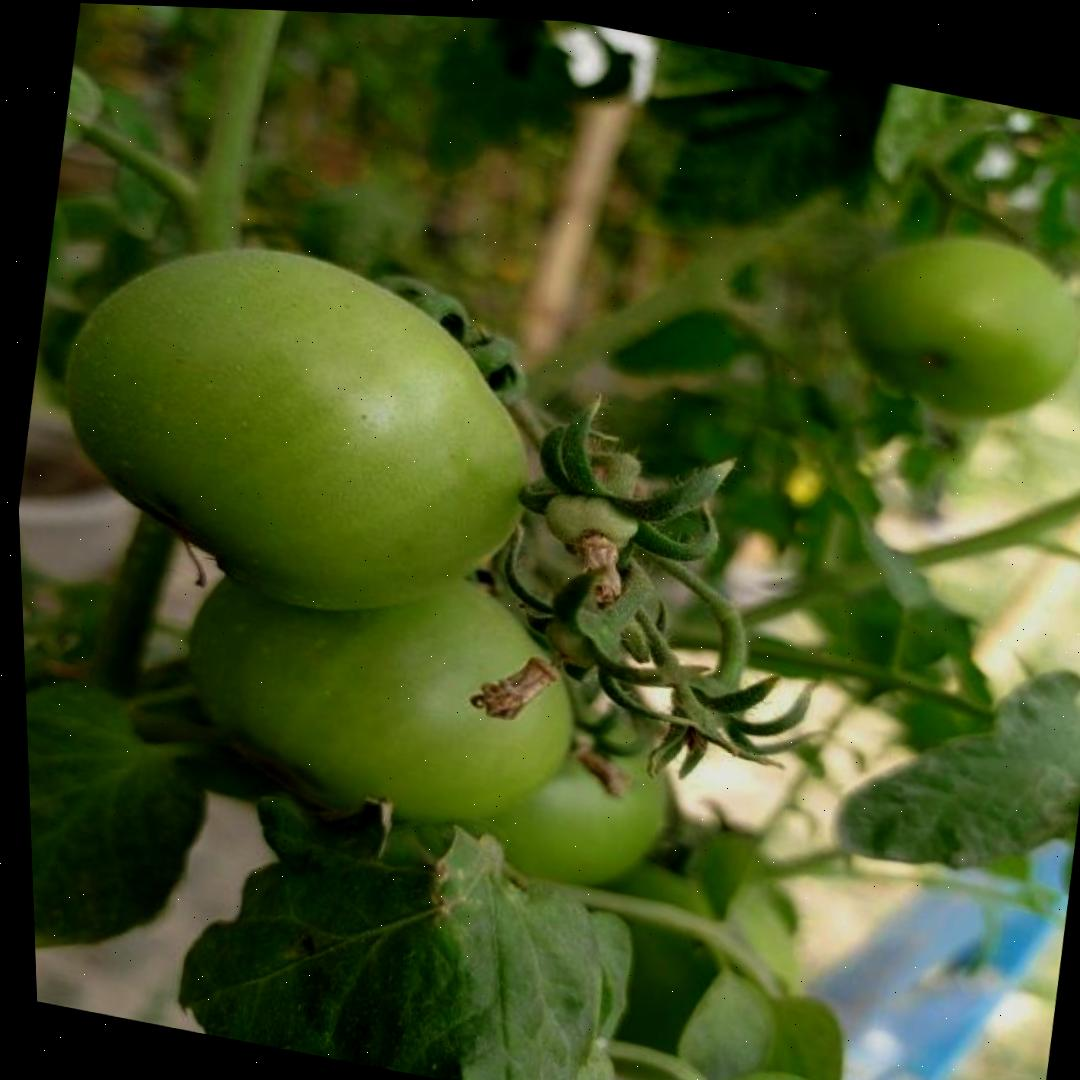mentah: (23, 209, 560, 649), (154, 511, 598, 857), (814, 205, 1080, 433)
